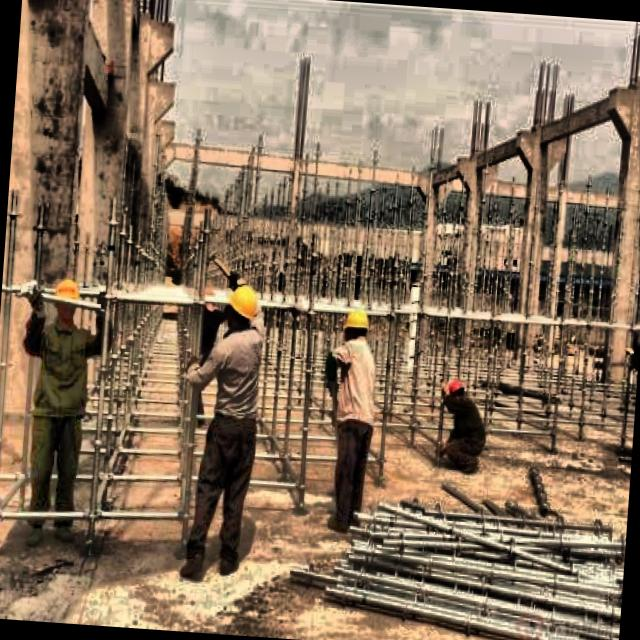helmet: (224, 284, 261, 337), (46, 274, 80, 322), (342, 304, 371, 355), (445, 376, 466, 408)
